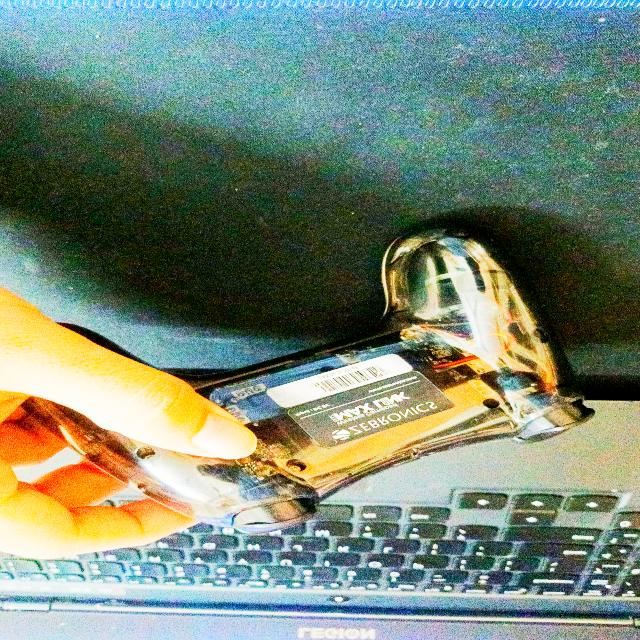gamepad: (23, 223, 596, 534)
